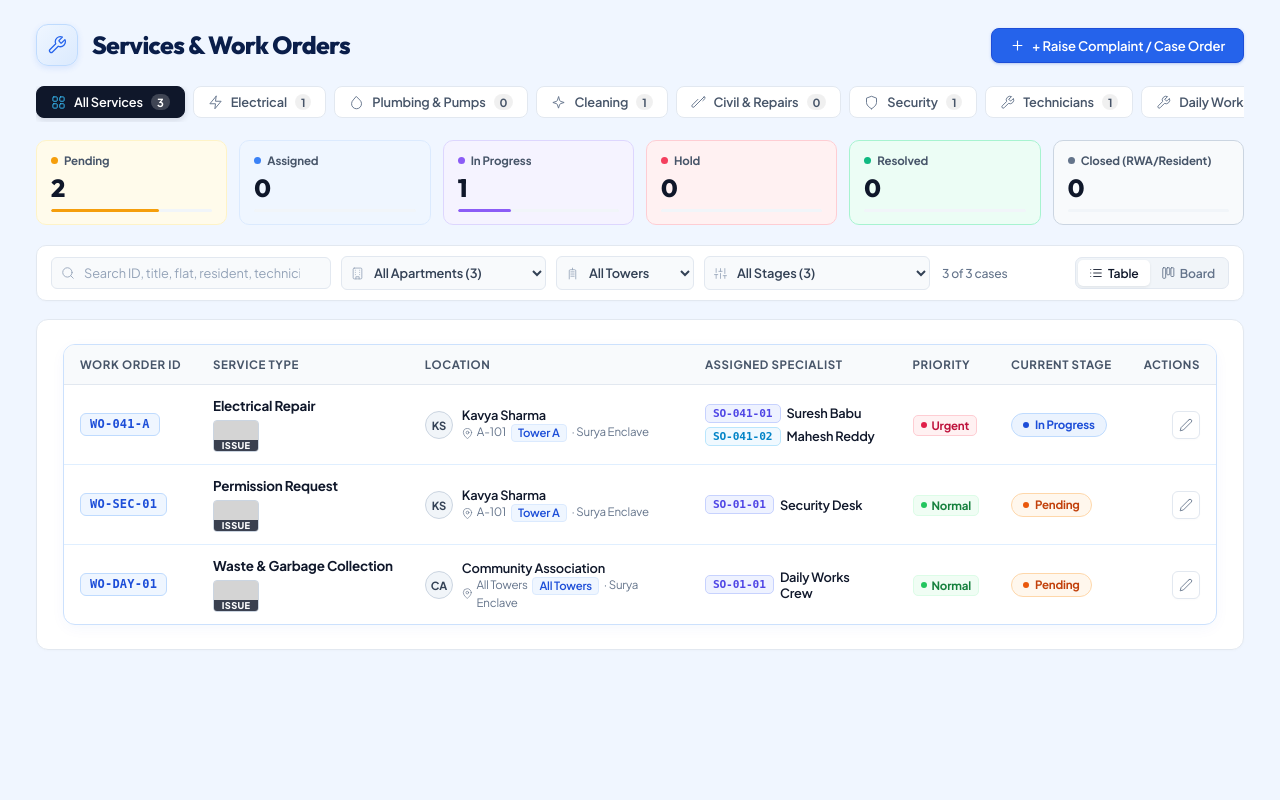
Test: Services Management Page & Hierarchy Flow › streamlined Edit Modal displays clean UI without subtitles: Inbound complaint details are read-only (non-editable), agent adds technicians dynamically with Add
This screenshot has width=1280, height=800.
// Click Edit on the first request
Step 1. Click the button titled "Edit complaint" → {"x": 1186, "y": 425}, box [1172, 411, 1200, 439]
(page scrolled)
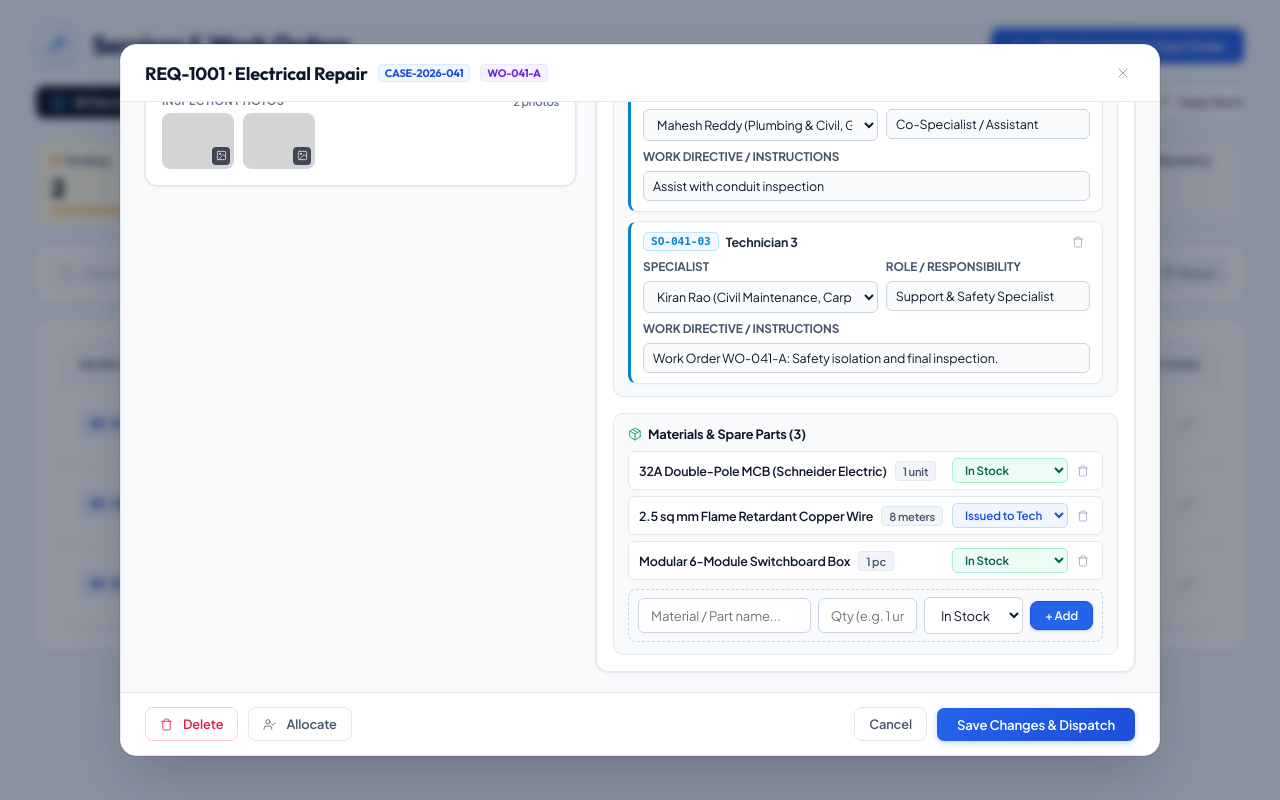
Expected: the heading "REQ-1001 · Electrical Repair" is shown, [145, 62, 368, 84]
Expected: the text "Materials & Spare Parts (3)" is shown, [648, 426, 806, 442]
Step 2. Type "Insulated Screwdriver Set 1000V" into the field with placeholder "Material / Part name..." → {"x": 724, "y": 616}, box [638, 598, 811, 633]
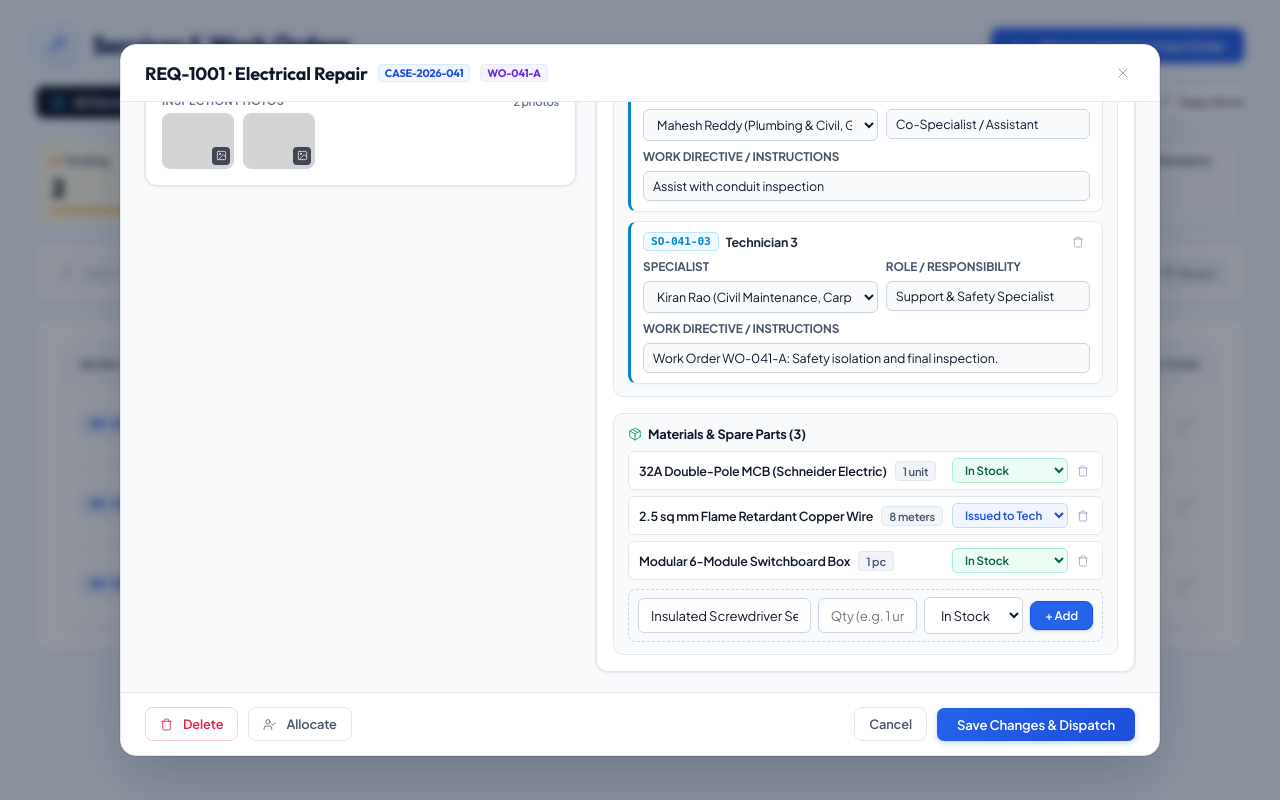
Step 3. Click the button "+ Add" → {"x": 1062, "y": 616}, box [1030, 601, 1093, 630]
(page scrolled)
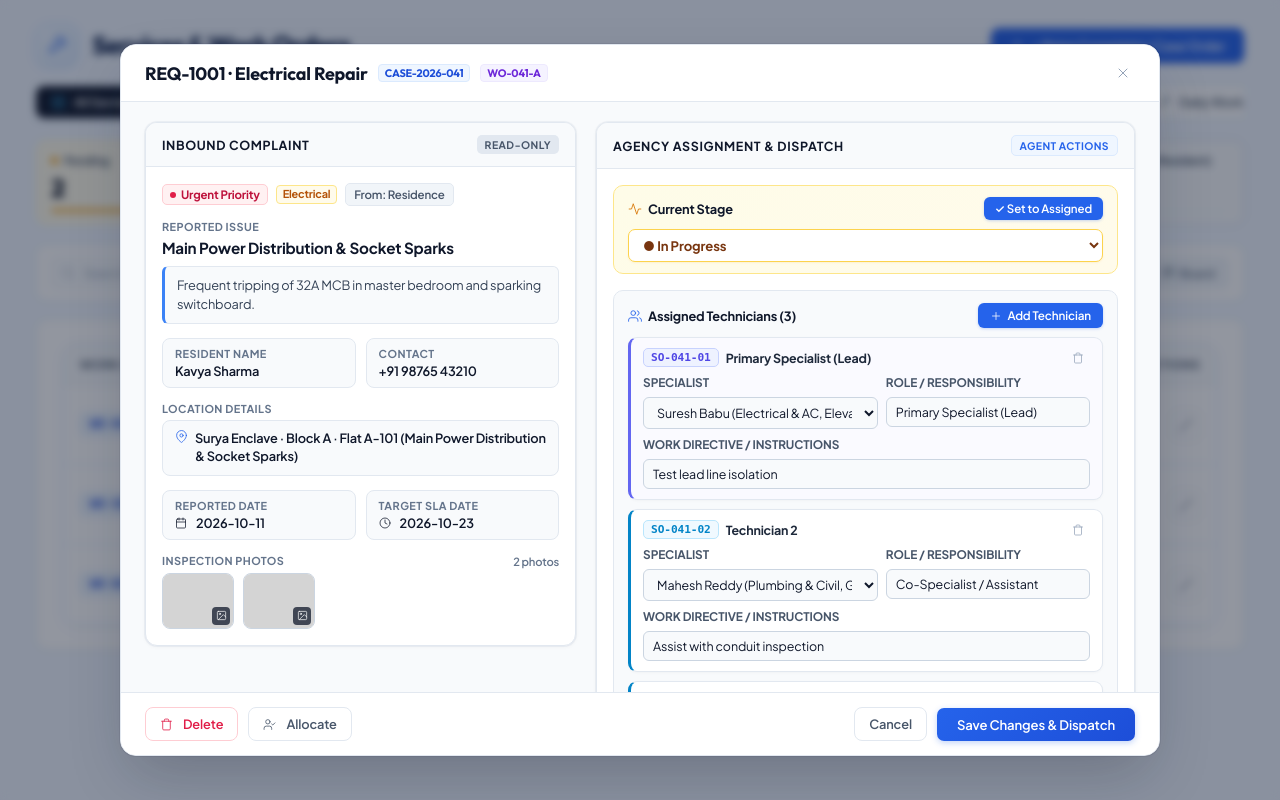
Expected: the button "Add Technician" is shown
Step 4. Click the button "Add Technician" → {"x": 1041, "y": 316}, box [978, 303, 1103, 328]
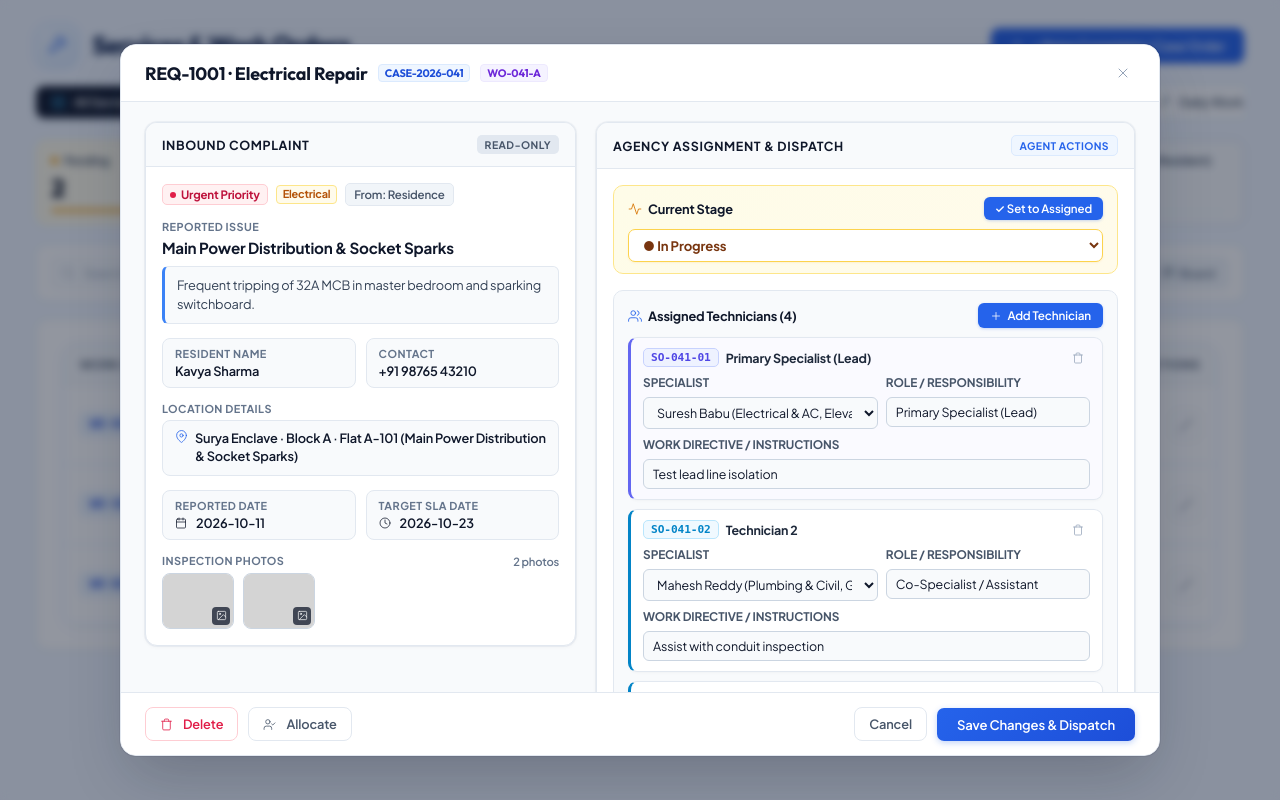
Step 5. Click the button "✓ Set to Assigned" → {"x": 1043, "y": 208}, box [984, 197, 1103, 220]
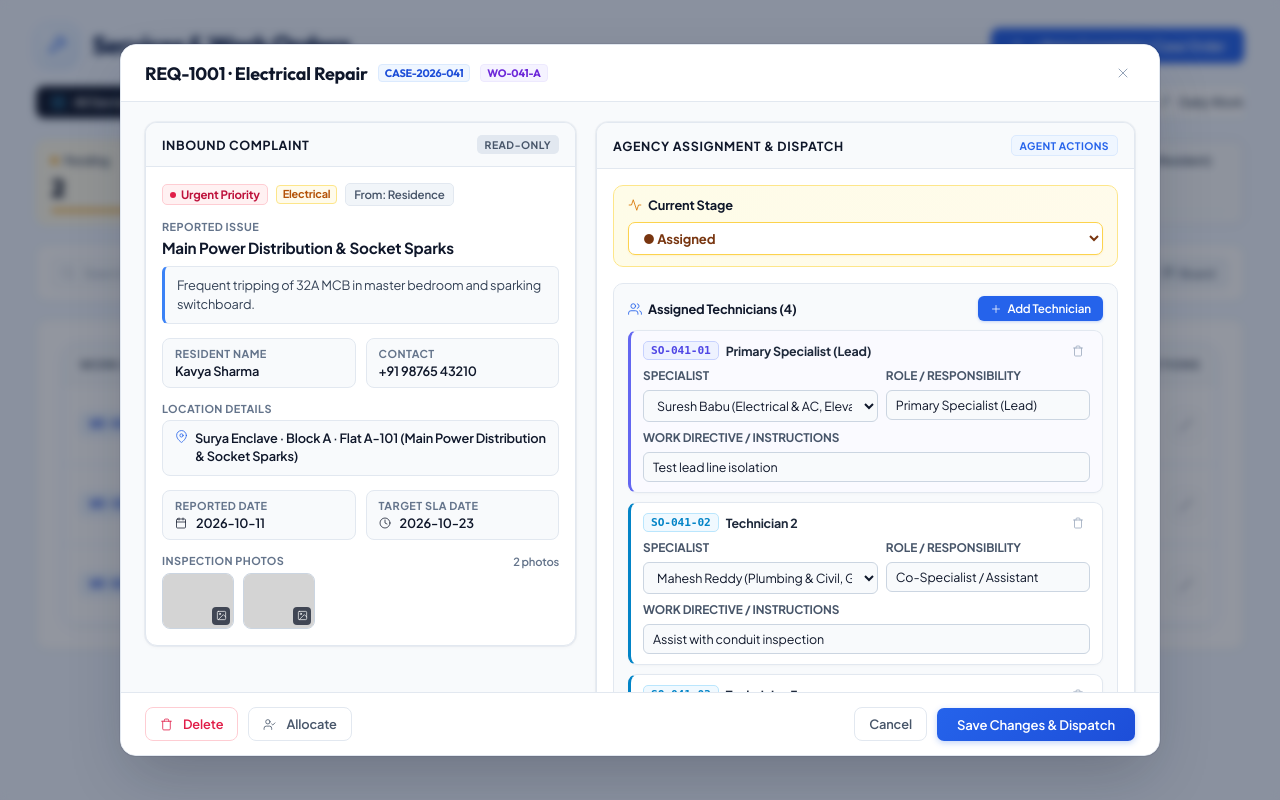
Step 6. Click the button "Save Changes & Dispatch" → {"x": 1036, "y": 724}, box [937, 708, 1135, 740]
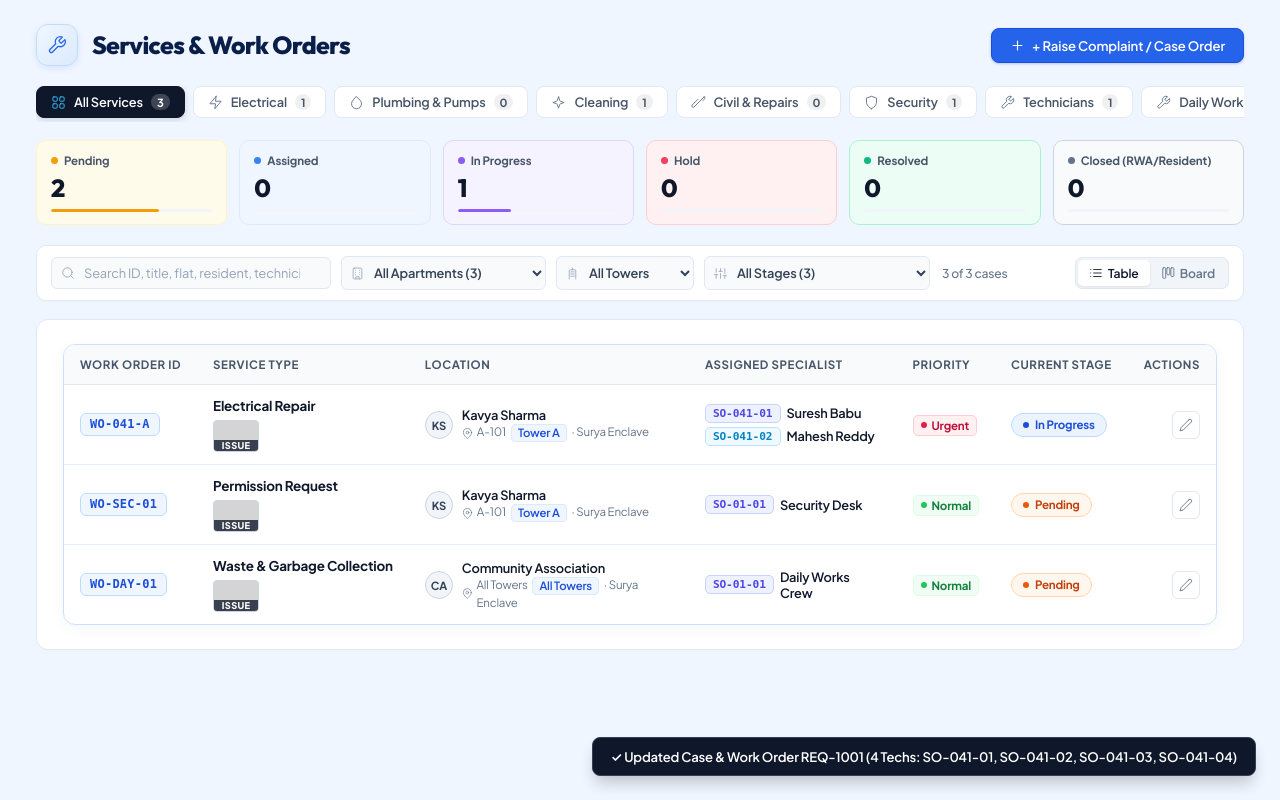
Expected: the text "Agency Assignment & Dispatch" is gone
